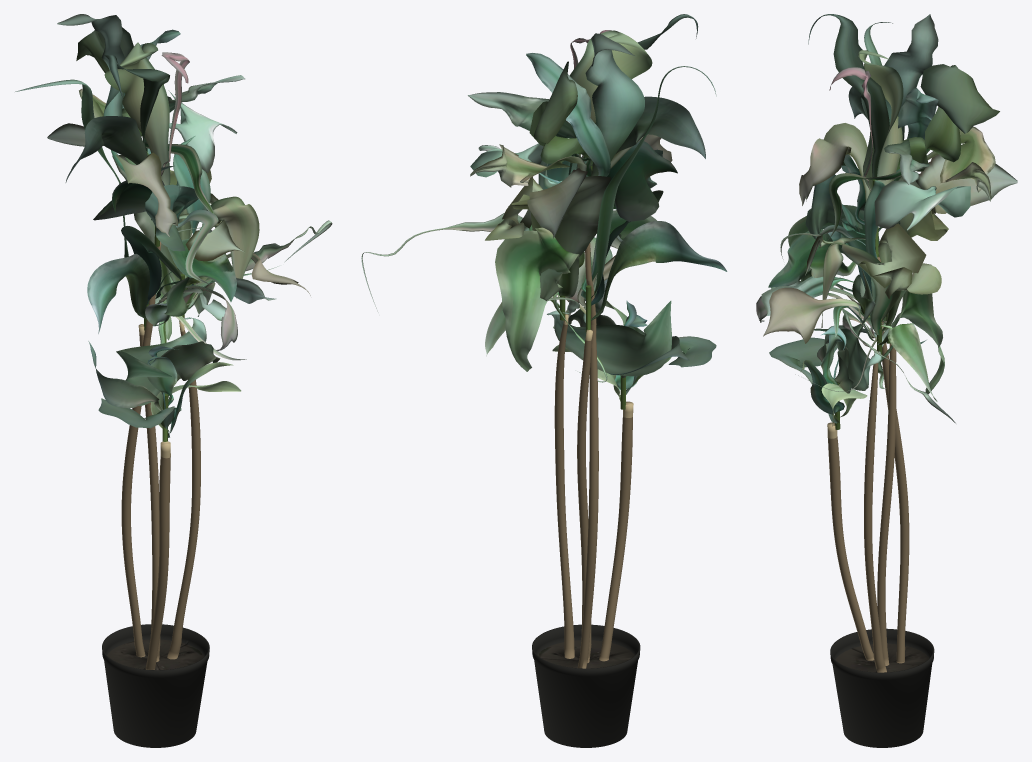
The model's file is potted_plant.glb.
3 renders of one model, left to right at view 1: azimuth 30°, elevation 25°; view 2: azimuth 150°, elevation 25°; view 3: azimuth 270°, elevation 25°, orthographic. The views are drawn at different scales.
Parts seen in each view (by area): view 1: w_potted_plant; view 2: w_potted_plant; view 3: w_potted_plant.
Boxes of the visible parts, bbox=[...] form: w_potted_plant: bbox=[15, 14, 332, 747]; w_potted_plant: bbox=[361, 14, 727, 747]; w_potted_plant: bbox=[756, 14, 1017, 747].
Bounding box in the file's own units: 0.5075 × 1.03 × 0.3558.
Materials: 60 (48 with a texture image).
